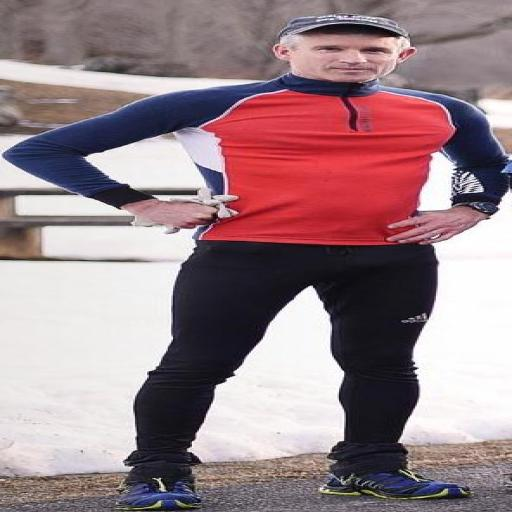person: (4, 14, 506, 510)
